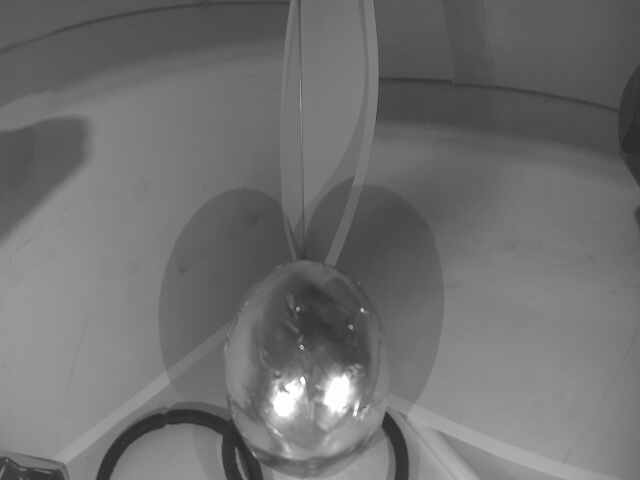Live: (218, 266, 391, 475)
